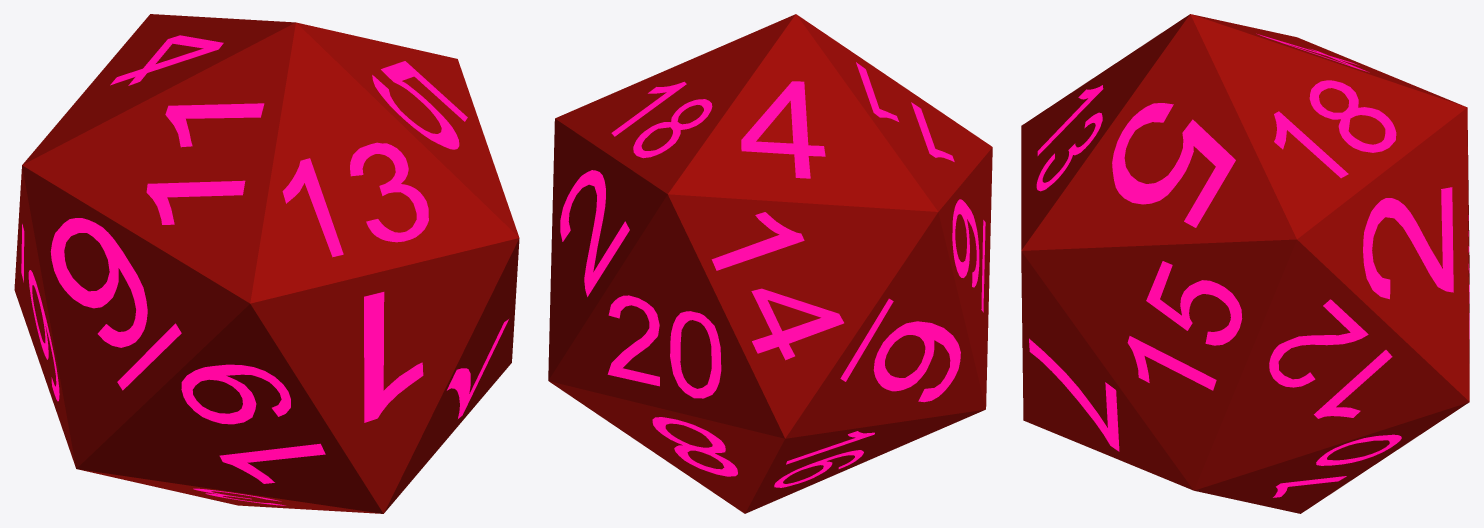
Rendered from dice20.glb.
3 views of the same model, side by side, from view 1: azimuth 30°, elevation 25°; view 2: azimuth 150°, elevation 25°; view 3: azimuth 270°, elevation 25° (orthographic). The views are drawn at different scales.
Parts seen in each view (by area): view 1: d20; view 2: d20; view 3: d20.
Part boxes in pixels (x1,y1,x2,y2): d20: (14, 14, 519, 513); d20: (548, 14, 992, 513); d20: (1021, 14, 1469, 513).
Size of the model in its own units: 0.0315 by 0.0364 by 0.0296.
